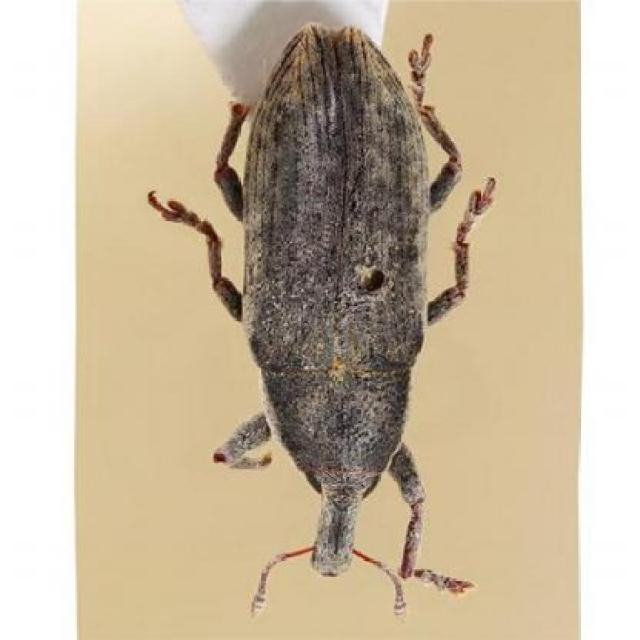rice-bug: (205, 22, 483, 600)
